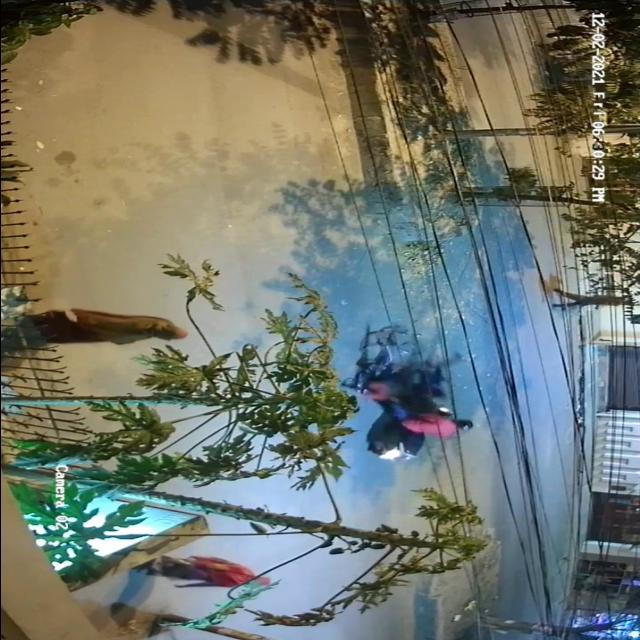accident: (346, 323, 499, 465)
